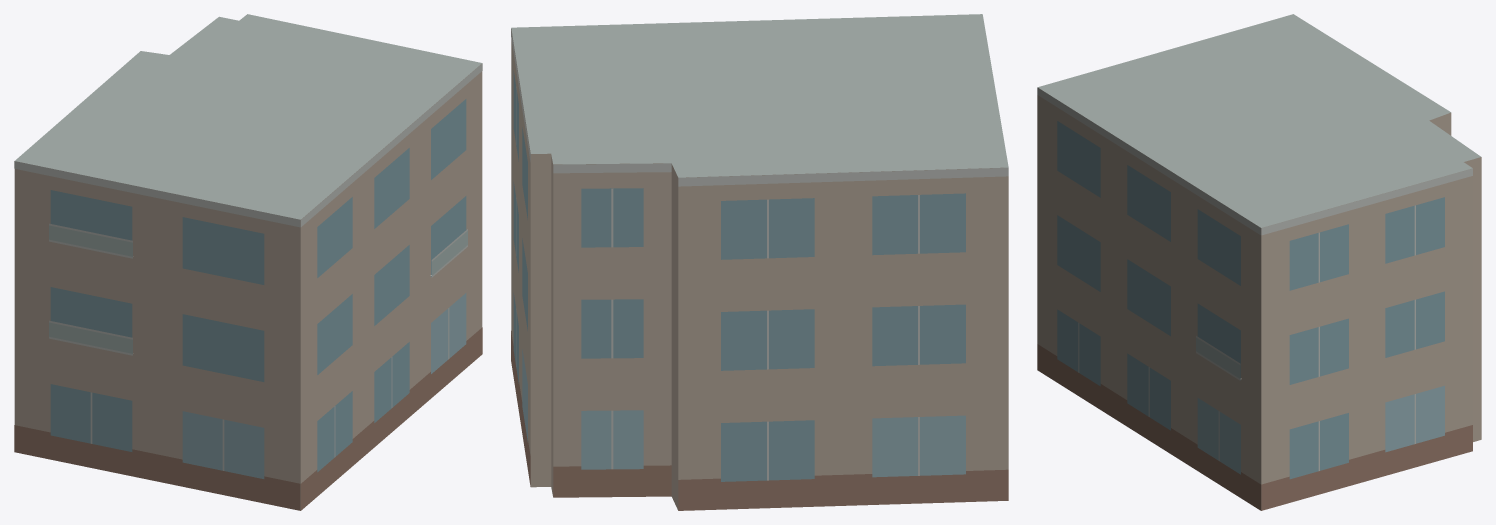
The model's file is survey-upis-32919292.glb.
3 views of the same model, side by side, from view 1: azimuth 30°, elevation 25°; view 2: azimuth 150°, elevation 25°; view 3: azimuth 270°, elevation 25° (orthographic). The views are drawn at different scales.
Visible parts, largest first — view 1: survey-upis-32919292.tmp; view 2: survey-upis-32919292.tmp; view 3: survey-upis-32919292.tmp.
Boxes of the visible parts, x1,y1,x2,y2 form: survey-upis-32919292.tmp: [14, 14, 482, 510]; survey-upis-32919292.tmp: [511, 14, 1008, 510]; survey-upis-32919292.tmp: [1037, 14, 1481, 510].
Bounding box in the file's own units: 14.85 × 9.15 × 13.03.
